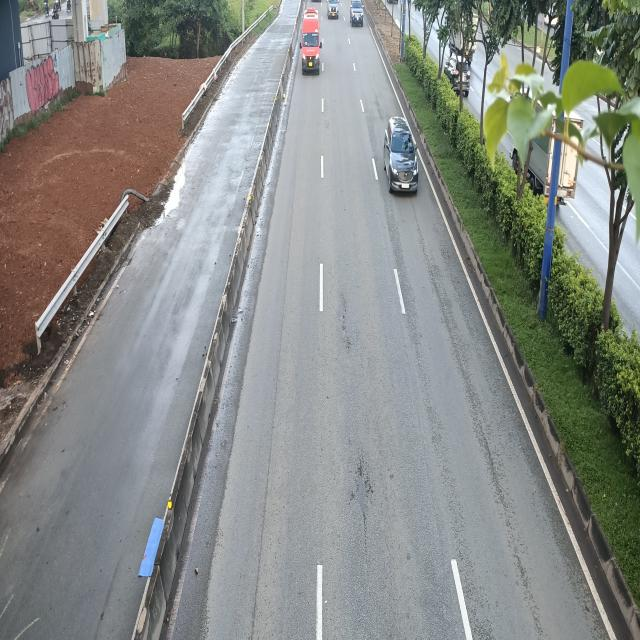car: (386, 117, 420, 196), (350, 0, 364, 26)
van: (301, 8, 322, 74)
